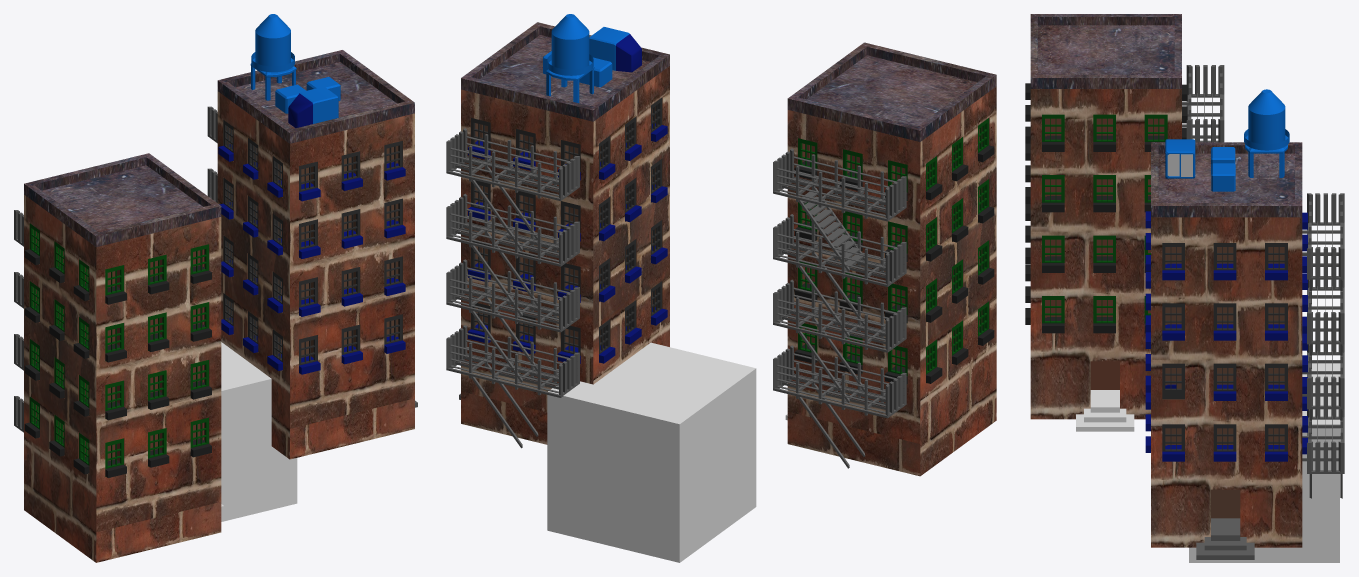
3 renders of one model, left to right at view 1: azimuth 30°, elevation 25°; view 2: azimuth 150°, elevation 25°; view 3: azimuth 270°, elevation 25°, orthographic. The views are drawn at different scales.
Parts seen in each view (by area): view 1: building_4_Cube.009, building_3_Cube.016, Cube.011_Cube.015, Cube, pegangan.003_Plane.008; view 2: building_4_Cube.009, building_3_Cube.016, Cube, pegangan.003_Plane.008, Cube.011_Cube.015, tangga.003_Plane.007; view 3: building_4_Cube.009, building_3_Cube.016, Cube.011_Cube.015, Cube, pegangan.003_Plane.008, Cube.010_Cube.014.
Part boxes in pixels (left/top/right/bottom): building_4_Cube.009: left=207, top=14, right=417, bottom=459; building_3_Cube.016: left=24, top=153, right=221, bottom=562; Cube.011_Cube.015: left=24, top=223, right=211, bottom=477; Cube: left=221, top=342, right=297, bottom=521; pegangan.003_Plane.008: left=14, top=210, right=23, bottom=432; building_4_Cube.009: left=446, top=14, right=669, bottom=448; building_3_Cube.016: left=787, top=42, right=996, bottom=476; Cube: left=547, top=342, right=756, bottom=562; pegangan.003_Plane.008: left=773, top=148, right=906, bottom=468; Cube.011_Cube.015: left=794, top=118, right=994, bottom=384; tangga.003_Plane.007: left=797, top=191, right=864, bottom=266; building_4_Cube.009: left=1145, top=89, right=1344, bottom=559; building_3_Cube.016: left=1030, top=14, right=1181, bottom=419; Cube.011_Cube.015: left=1025, top=83, right=1187, bottom=333; Cube: left=1189, top=363, right=1339, bottom=562; pegangan.003_Plane.008: left=1182, top=65, right=1224, bottom=142; Cube.010_Cube.014: left=1076, top=390, right=1134, bottom=431.
Bounding box in the file's own units: 6.48 × 6.98 × 4.23.
Materials: 14 (5 with a texture image).
